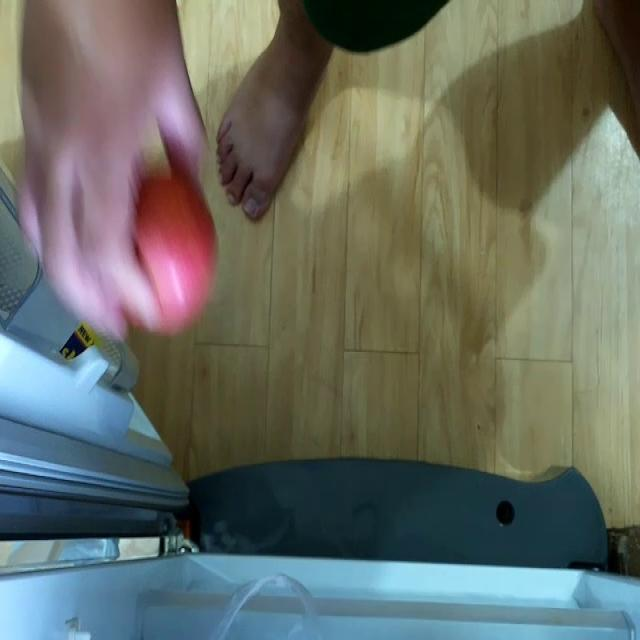apple: (121, 164, 214, 318)
